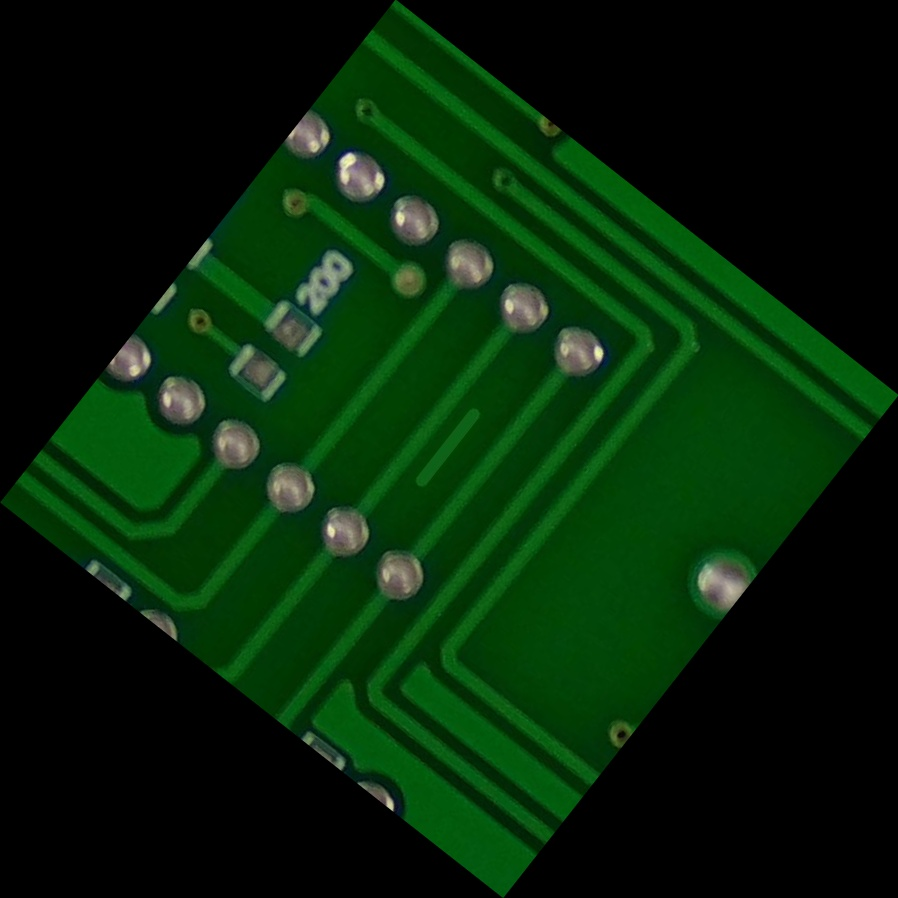spurious_copper: (390, 382, 508, 516)
